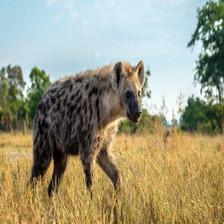hyena: (27, 58, 146, 193)
